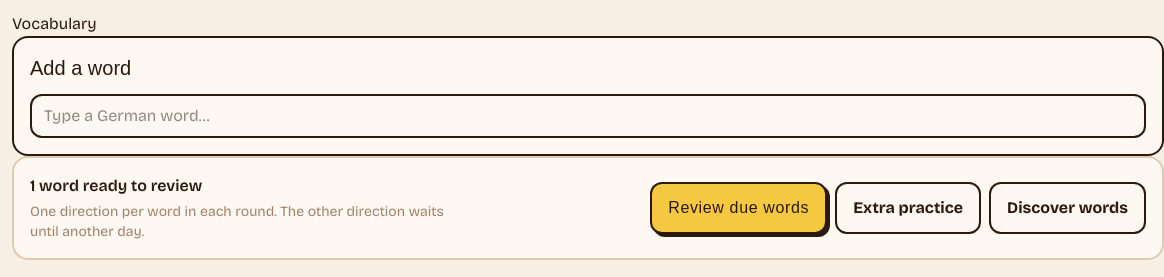
Test: discovering words only changes the Discover words loading label
The width and height of the screenshot is (1164, 277).
Click the button "Discover words" at (1068, 208), box [989,182,1146,234]
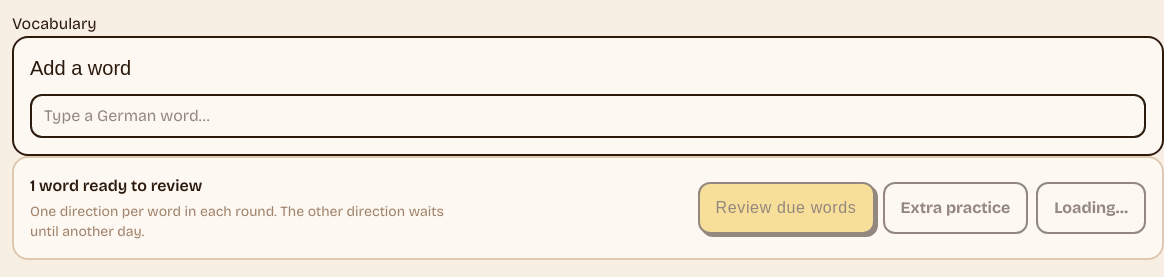
Expected: the button "Review due words" is shown, [698,182,874,234]
Result: the button named "Discover words" reads "Loading…" at [1036,182,1146,234]
